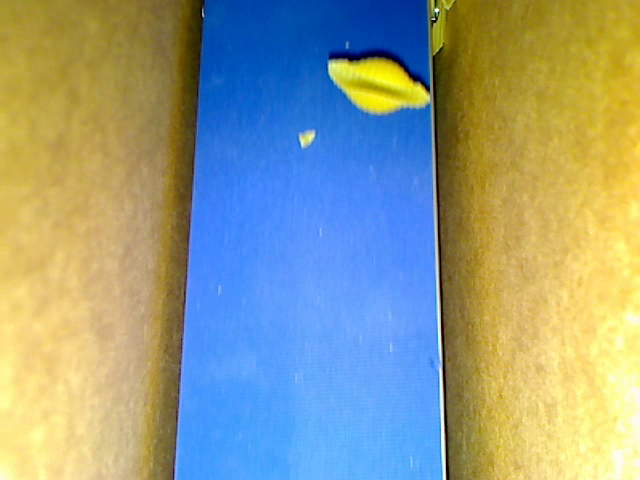penne: (429, 1, 444, 56), (439, 1, 455, 14)
shell: (328, 54, 431, 121)
